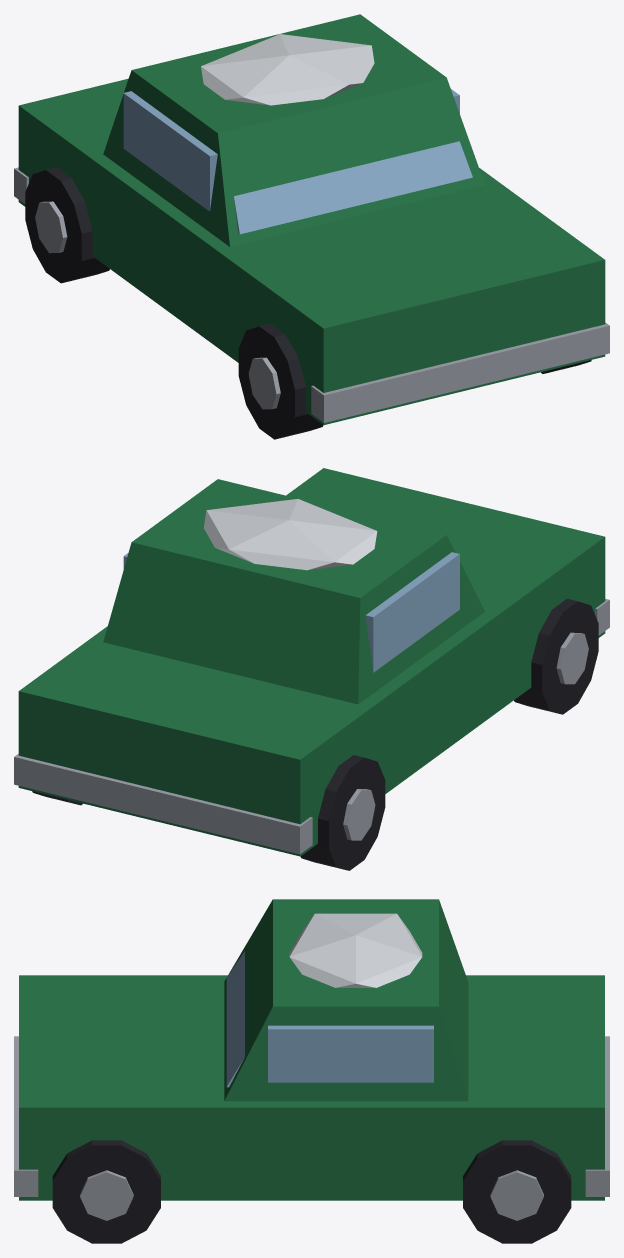
The model's file is Car_Green_Body.glb.
3 renders of one model, top to bottom at view 1: azimuth 30°, elevation 25°; view 2: azimuth 150°, elevation 25°; view 3: azimuth 270°, elevation 25°, orthographic. The views are drawn at different scales.
Parts seen in each view (by area): view 1: Car_Green_Body; view 2: Car_Green_Body; view 3: Car_Green_Body.
Part boxes in pixels (x1,y1,x2,y2): Car_Green_Body: (14, 14, 609, 439); Car_Green_Body: (14, 468, 609, 870); Car_Green_Body: (14, 899, 609, 1243).
Size of the model in its own units: 7.1 by 5.36 by 12.2.
